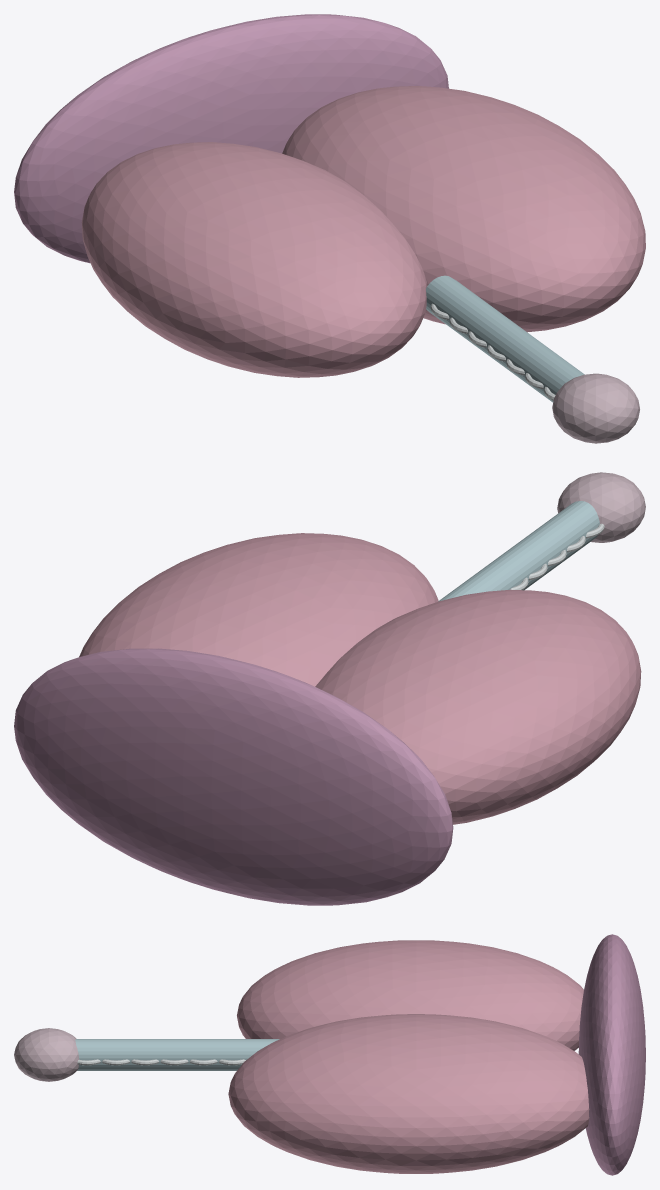
The model's file is respiratory-g3-high.glb.
The picture shows the model from 3 angles, top to bottom: view 1: azimuth 30°, elevation 25°; view 2: azimuth 150°, elevation 25°; view 3: azimuth 270°, elevation 25°; orthographic projection. The views are drawn at different scales.
Visible parts, largest first — view 1: left_lung, right_lung, diaphragm, trachea, larynx_proxy; view 2: diaphragm, left_lung, right_lung, trachea, larynx_proxy; view 3: right_lung, left_lung, diaphragm, trachea, larynx_proxy.
Boxes of the visible parts, x1,y1,x2,y2 form: left_lung: (81, 142, 427, 377); right_lung: (282, 86, 645, 332); diaphragm: (14, 14, 448, 263); trachea: (426, 275, 584, 402); larynx_proxy: (552, 373, 639, 443); diaphragm: (14, 648, 453, 905); left_lung: (315, 589, 641, 824); right_lung: (79, 533, 438, 686); trachea: (438, 501, 599, 601); larynx_proxy: (557, 472, 645, 542); right_lung: (228, 1014, 589, 1173); left_lung: (237, 940, 583, 1050); diaphragm: (578, 934, 645, 1175); trachea: (75, 1039, 279, 1070); larynx_proxy: (14, 1028, 78, 1081).
Size of the model in its own units: 3.02 by 1.4 by 4.51.
